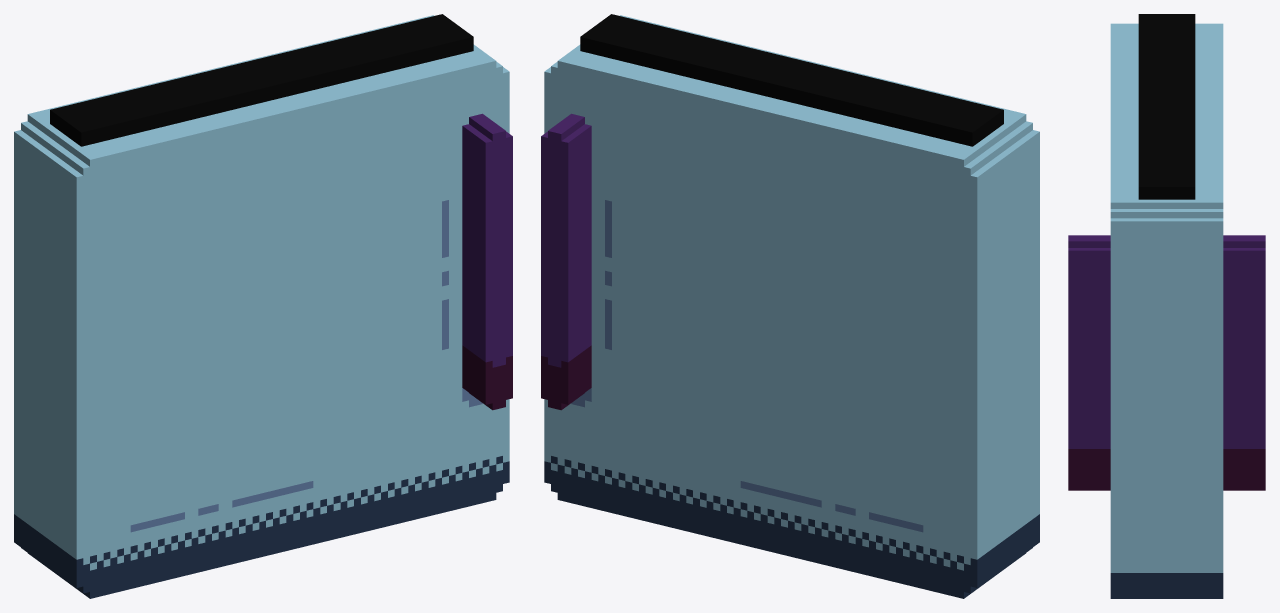
The model's file is buzdolabi_alt_kisim.fbx.
The picture shows the model from 3 angles, left to right: view 1: azimuth 30°, elevation 25°; view 2: azimuth 150°, elevation 25°; view 3: azimuth 270°, elevation 25°; orthographic projection. The views are drawn at different scales.
Parts seen in each view (by area): view 1: generated; view 2: generated; view 3: generated.
Part boxes in pixels (x1,y1,x2,y2): generated: (14, 14, 512, 598); generated: (541, 14, 1039, 598); generated: (1068, 14, 1265, 598).
Bounding box in the file's own units: 640 × 640 × 280.
